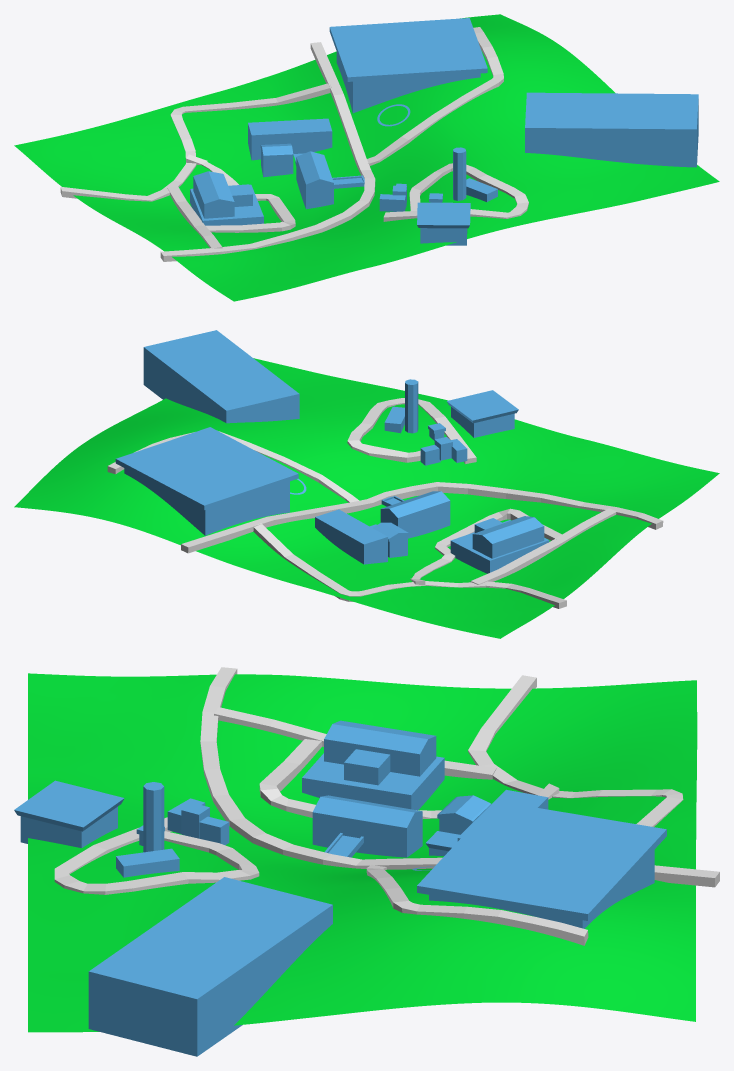
Rendered from IPEN.glb.
3 renders of one model, top to bottom at view 1: azimuth 30°, elevation 25°; view 2: azimuth 150°, elevation 25°; view 3: azimuth 270°, elevation 25°, orthographic. The views are drawn at different scales.
Parts seen in each view (by area): view 1: Ground, Buildings, Streets; view 2: Ground, Buildings, Streets; view 3: Ground, Buildings, Streets.
Boxes of the visible parts, x1,y1,x2,y2 form: Ground: (14, 14, 719, 301); Buildings: (190, 18, 698, 245); Streets: (60, 27, 528, 261); Ground: (14, 358, 719, 638); Buildings: (115, 330, 549, 573); Streets: (107, 398, 663, 608); Ground: (28, 673, 697, 1032); Buildings: (14, 720, 666, 1056); Streets: (54, 667, 719, 945).
Size of the model in its own units: 268 by 41.52 by 203.
